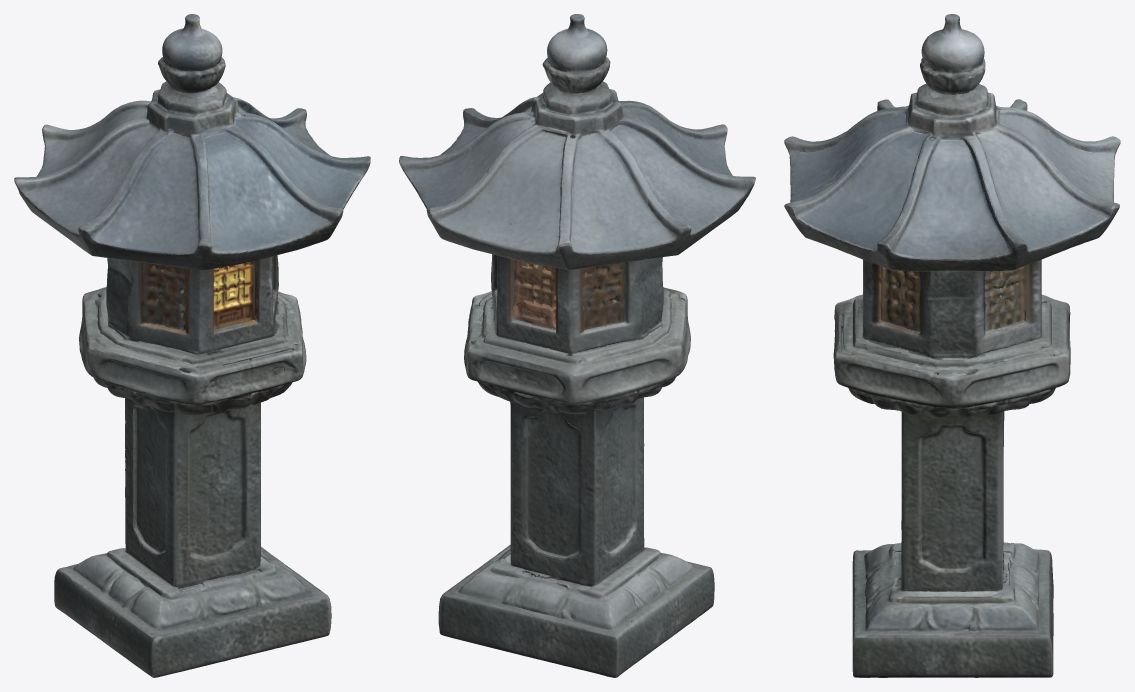
Rendered from stone-lantern.glb.
3 renders of one model, left to right at view 1: azimuth 30°, elevation 25°; view 2: azimuth 150°, elevation 25°; view 3: azimuth 270°, elevation 25°, orthographic. The views are drawn at different scales.
Visible parts, largest first — view 1: geometry_0; view 2: geometry_0; view 3: geometry_0.
Boxes of the visible parts, box(x1,y1,x2,y2) form: geometry_0: box(14, 14, 370, 677); geometry_0: box(399, 14, 755, 677); geometry_0: box(784, 14, 1120, 677).
Size of the model in its own units: 0.9063 by 1.8 by 0.8886.
1 material, 1 textured.
